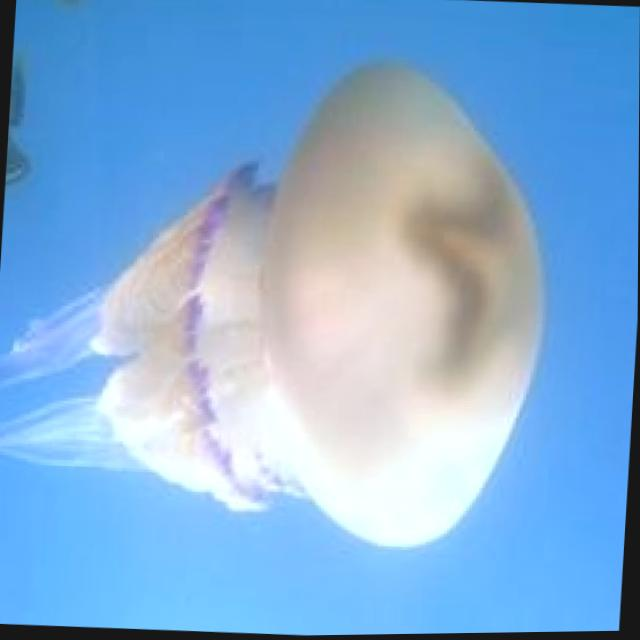Moon-jellyfish: (0, 41, 561, 565)
